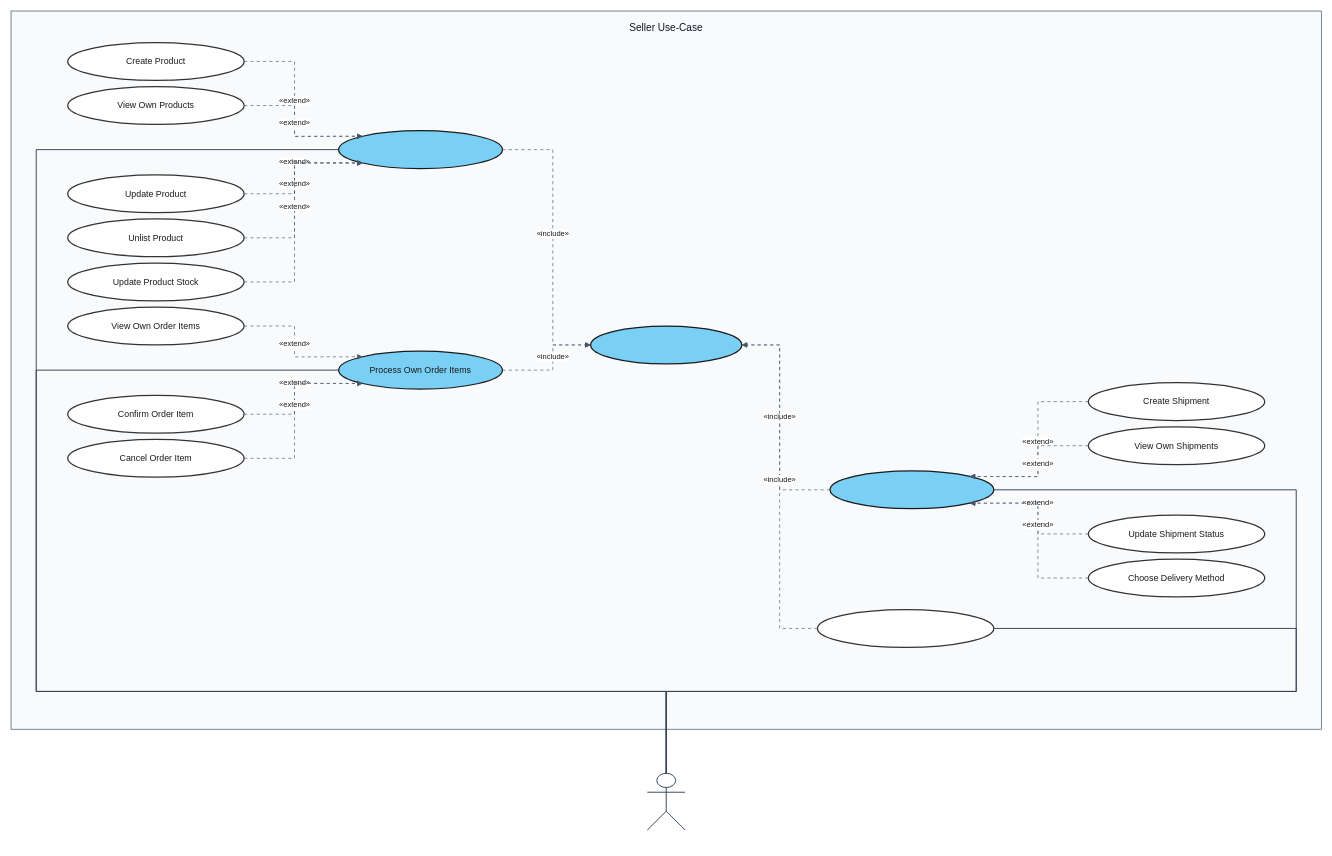
Some shapes in this 1332 by 856 pixel diagram are drawn without their labels. Here are the shapes that lost their labels. From the top down, the centre of each, then its label:
At (x=420, y=149): "Manage Products".
At (x=666, y=344): "Login".
At (x=911, y=489): "Manage Own Shipments".
At (x=905, y=628): "Chat with Customer".
At (x=666, y=801): "Seller".
